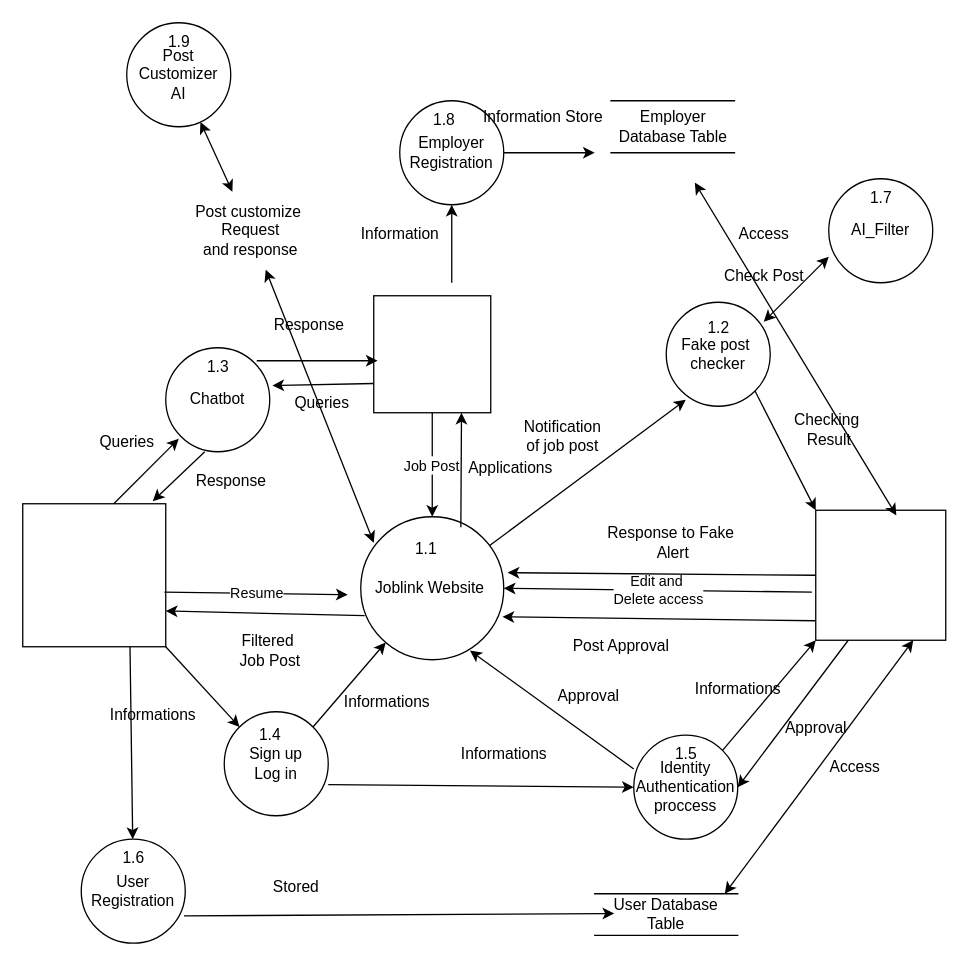
Some shapes in this 968 by 966 pixel diagram are drawn without their labels. The shapes that lost their labels are listed below. From the top down, each one's centre as x and y in pixels, then its label:
the point at 431,353: Employeers
the point at 93,574: Job_Seeker
the point at 880,574: Admin
